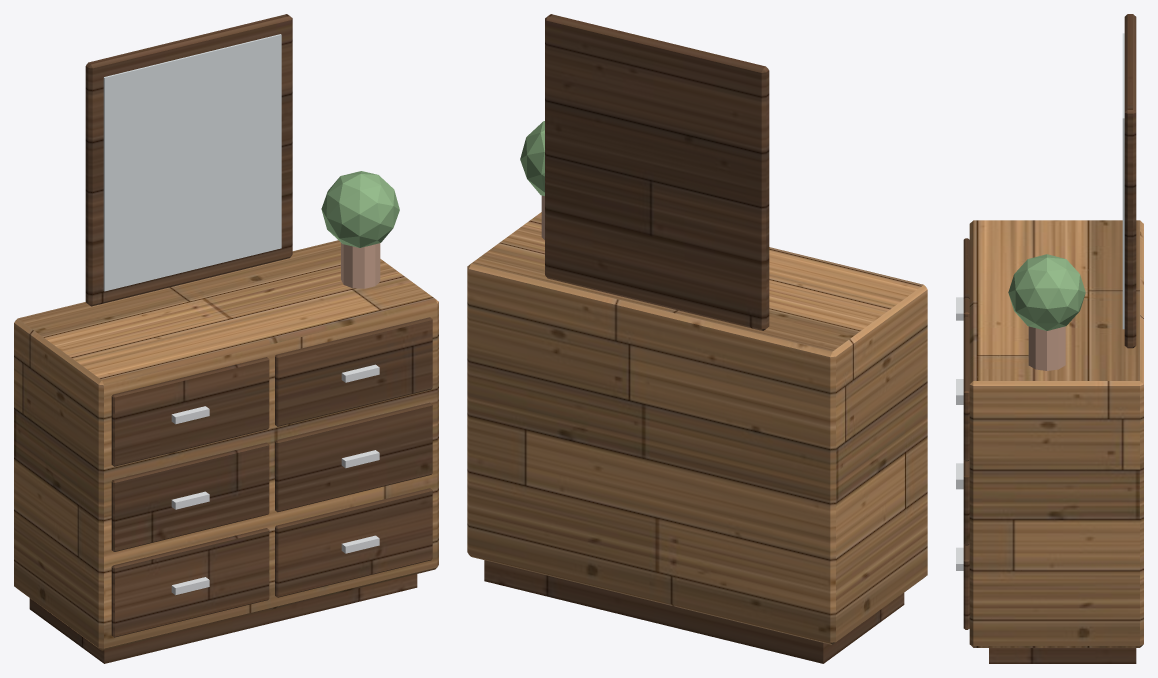
Rendered from dresser.glb.
The picture shows the model from 3 angles, left to right: view 1: azimuth 30°, elevation 25°; view 2: azimuth 150°, elevation 25°; view 3: azimuth 270°, elevation 25°; orthographic projection. The views are drawn at different scales.
Visible parts, largest first — view 1: dresser_dkwood, dresser_wood, dresser_mirror, dresser_plant, dresser_chrome, dresser_pot; view 2: dresser_wood, dresser_dkwood, dresser_plant; view 3: dresser_wood, dresser_dkwood, dresser_plant, dresser_pot, dresser_mirror, dresser_chrome.
Boxes of the visible parts, x1=… form: dresser_dkwood: x1=29, y1=14, x2=432, y2=663; dresser_wood: x1=14, y1=240, x2=438, y2=650; dresser_mirror: x1=103, y1=34, x2=281, y2=291; dresser_plant: x1=321, y1=171, x2=399, y2=247; dresser_chrome: x1=171, y1=364, x2=379, y2=595; dresser_pot: x1=341, y1=243, x2=380, y2=288; dresser_wood: x1=467, y1=212, x2=927, y2=644; dresser_dkwood: x1=484, y1=14, x2=904, y2=663; dresser_plant: x1=520, y1=121, x2=544, y2=195; dresser_wood: x1=969, y1=220, x2=1143, y2=647; dresser_dkwood: x1=963, y1=14, x2=1136, y2=663; dresser_plant: x1=1008, y1=254, x2=1085, y2=330; dresser_pot: x1=1028, y1=326, x2=1065, y2=370; dresser_mirror: x1=1122, y1=33, x2=1124, y2=329; dresser_chrome: x1=956, y1=297, x2=963, y2=570.
Bounding box in the file's own units: 1 × 1.5 × 0.485.
Materials: 6 (2 with a texture image).
